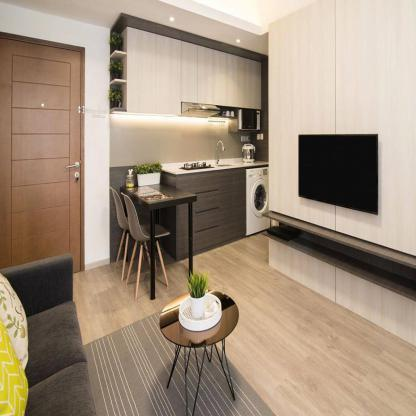kursi: (122, 192, 171, 295)
meja: (161, 290, 241, 410)
sova: (1, 259, 99, 416)
tanaman: (184, 276, 208, 316)
tv: (296, 134, 379, 215)
